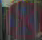No Stopping: (1, 2, 41, 37)
